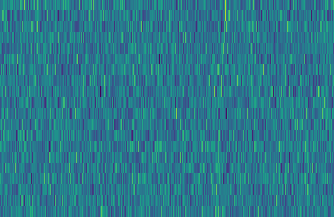signal: (211, 0, 231, 217)
